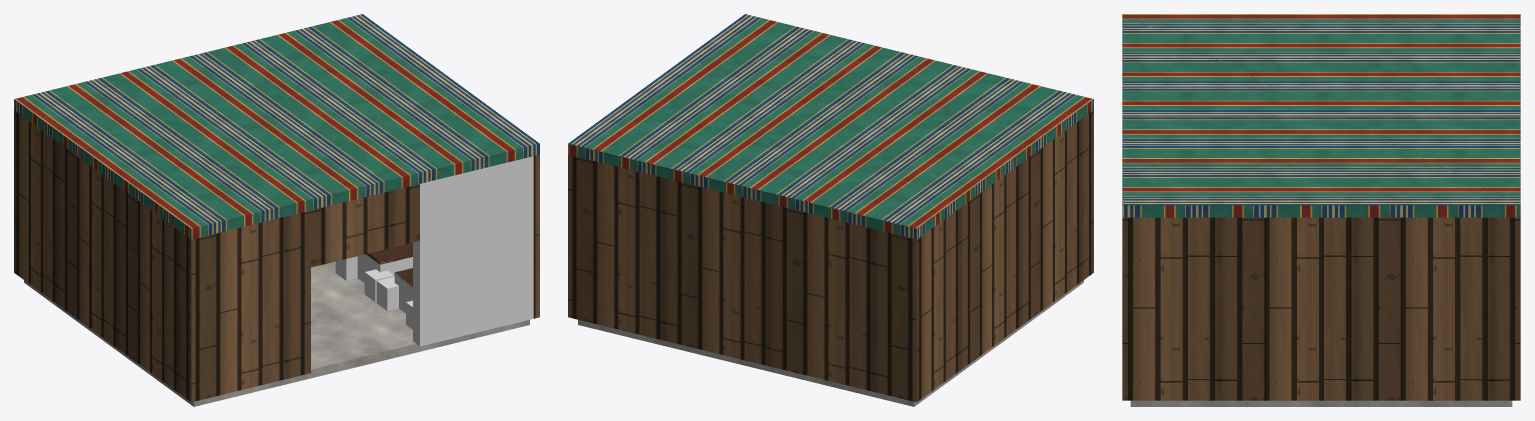
The model's file is qingshi_inn.glb.
3 views of the same model, side by side, from view 1: azimuth 30°, elevation 25°; view 2: azimuth 150°, elevation 25°; view 3: azimuth 270°, elevation 25° (orthographic). The views are drawn at different scales.
Parts seen in each view (by area): view 1: Ceiling, Walls, ShellFront-convcolonly.001, Floor, TableCol-convcolonly.001, StoolCol-convcolonly.013, Table.001, StoolCol-convcolonly.006; view 2: Walls, Ceiling, Floor; view 3: Ceiling, Walls, Floor.
Boxes of the visible parts, bbox=[...] form: Ceiling: bbox=[14, 14, 539, 239]; Walls: bbox=[14, 110, 539, 402]; ShellFront-convcolonly.001: bbox=[413, 156, 533, 346]; Floor: bbox=[24, 261, 529, 406]; TableCol-convcolonly.001: bbox=[357, 254, 412, 282]; StoolCol-convcolonly.013: bbox=[376, 276, 398, 310]; Table.001: bbox=[366, 243, 412, 264]; StoolCol-convcolonly.006: bbox=[364, 269, 393, 302]; Walls: bbox=[568, 110, 1093, 402]; Ceiling: bbox=[568, 14, 1093, 239]; Floor: bbox=[578, 280, 1083, 406]; Ceiling: bbox=[1122, 14, 1520, 217]; Walls: bbox=[1122, 217, 1520, 400]; Floor: bbox=[1130, 400, 1512, 406].
Size of what is drawn, in the model's own units: 8.3 by 4.15 by 7.3.
Materials: 10 (10 with a texture image).
